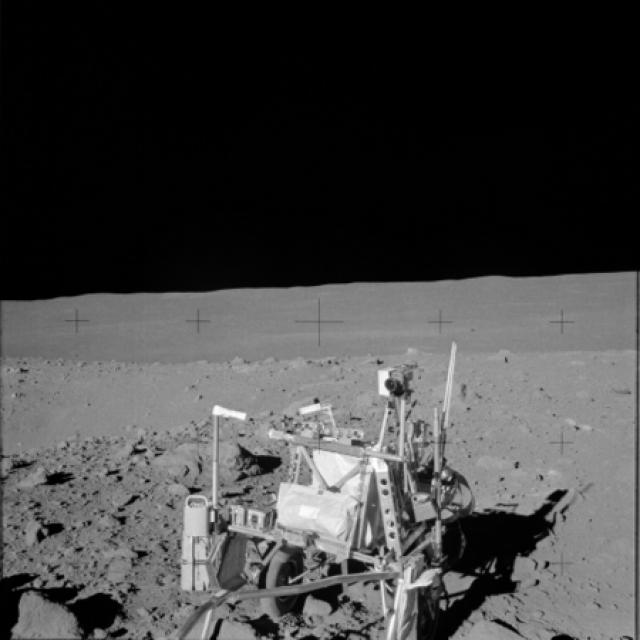rock: (149, 432, 263, 488), (0, 582, 98, 638), (12, 509, 54, 553), (12, 464, 70, 493), (103, 538, 142, 567), (113, 432, 144, 460), (483, 345, 523, 364), (94, 512, 124, 532)
